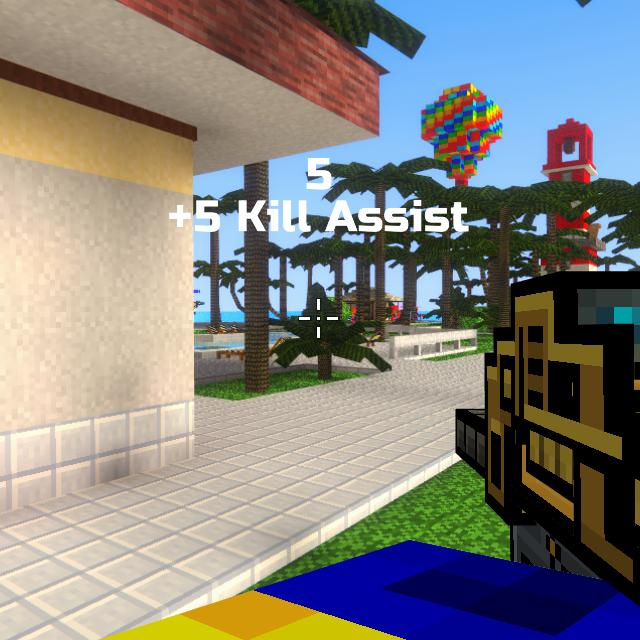Enemy: (393, 309, 398, 320)
